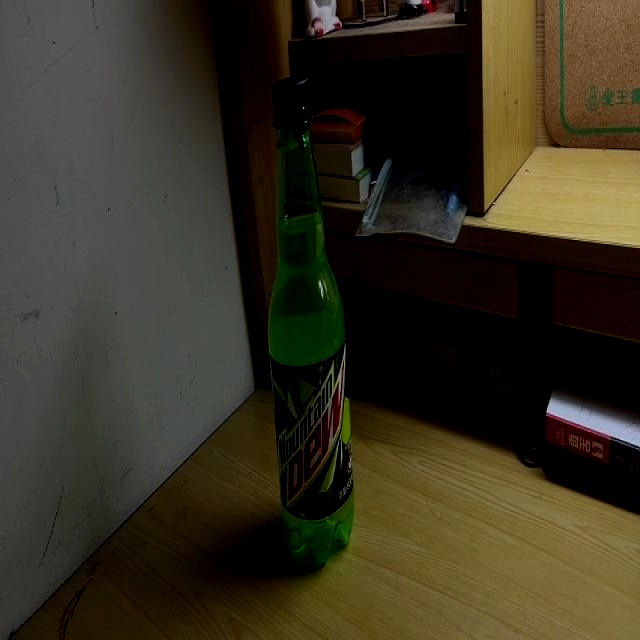Mountain-Dew: (267, 74, 356, 572)
